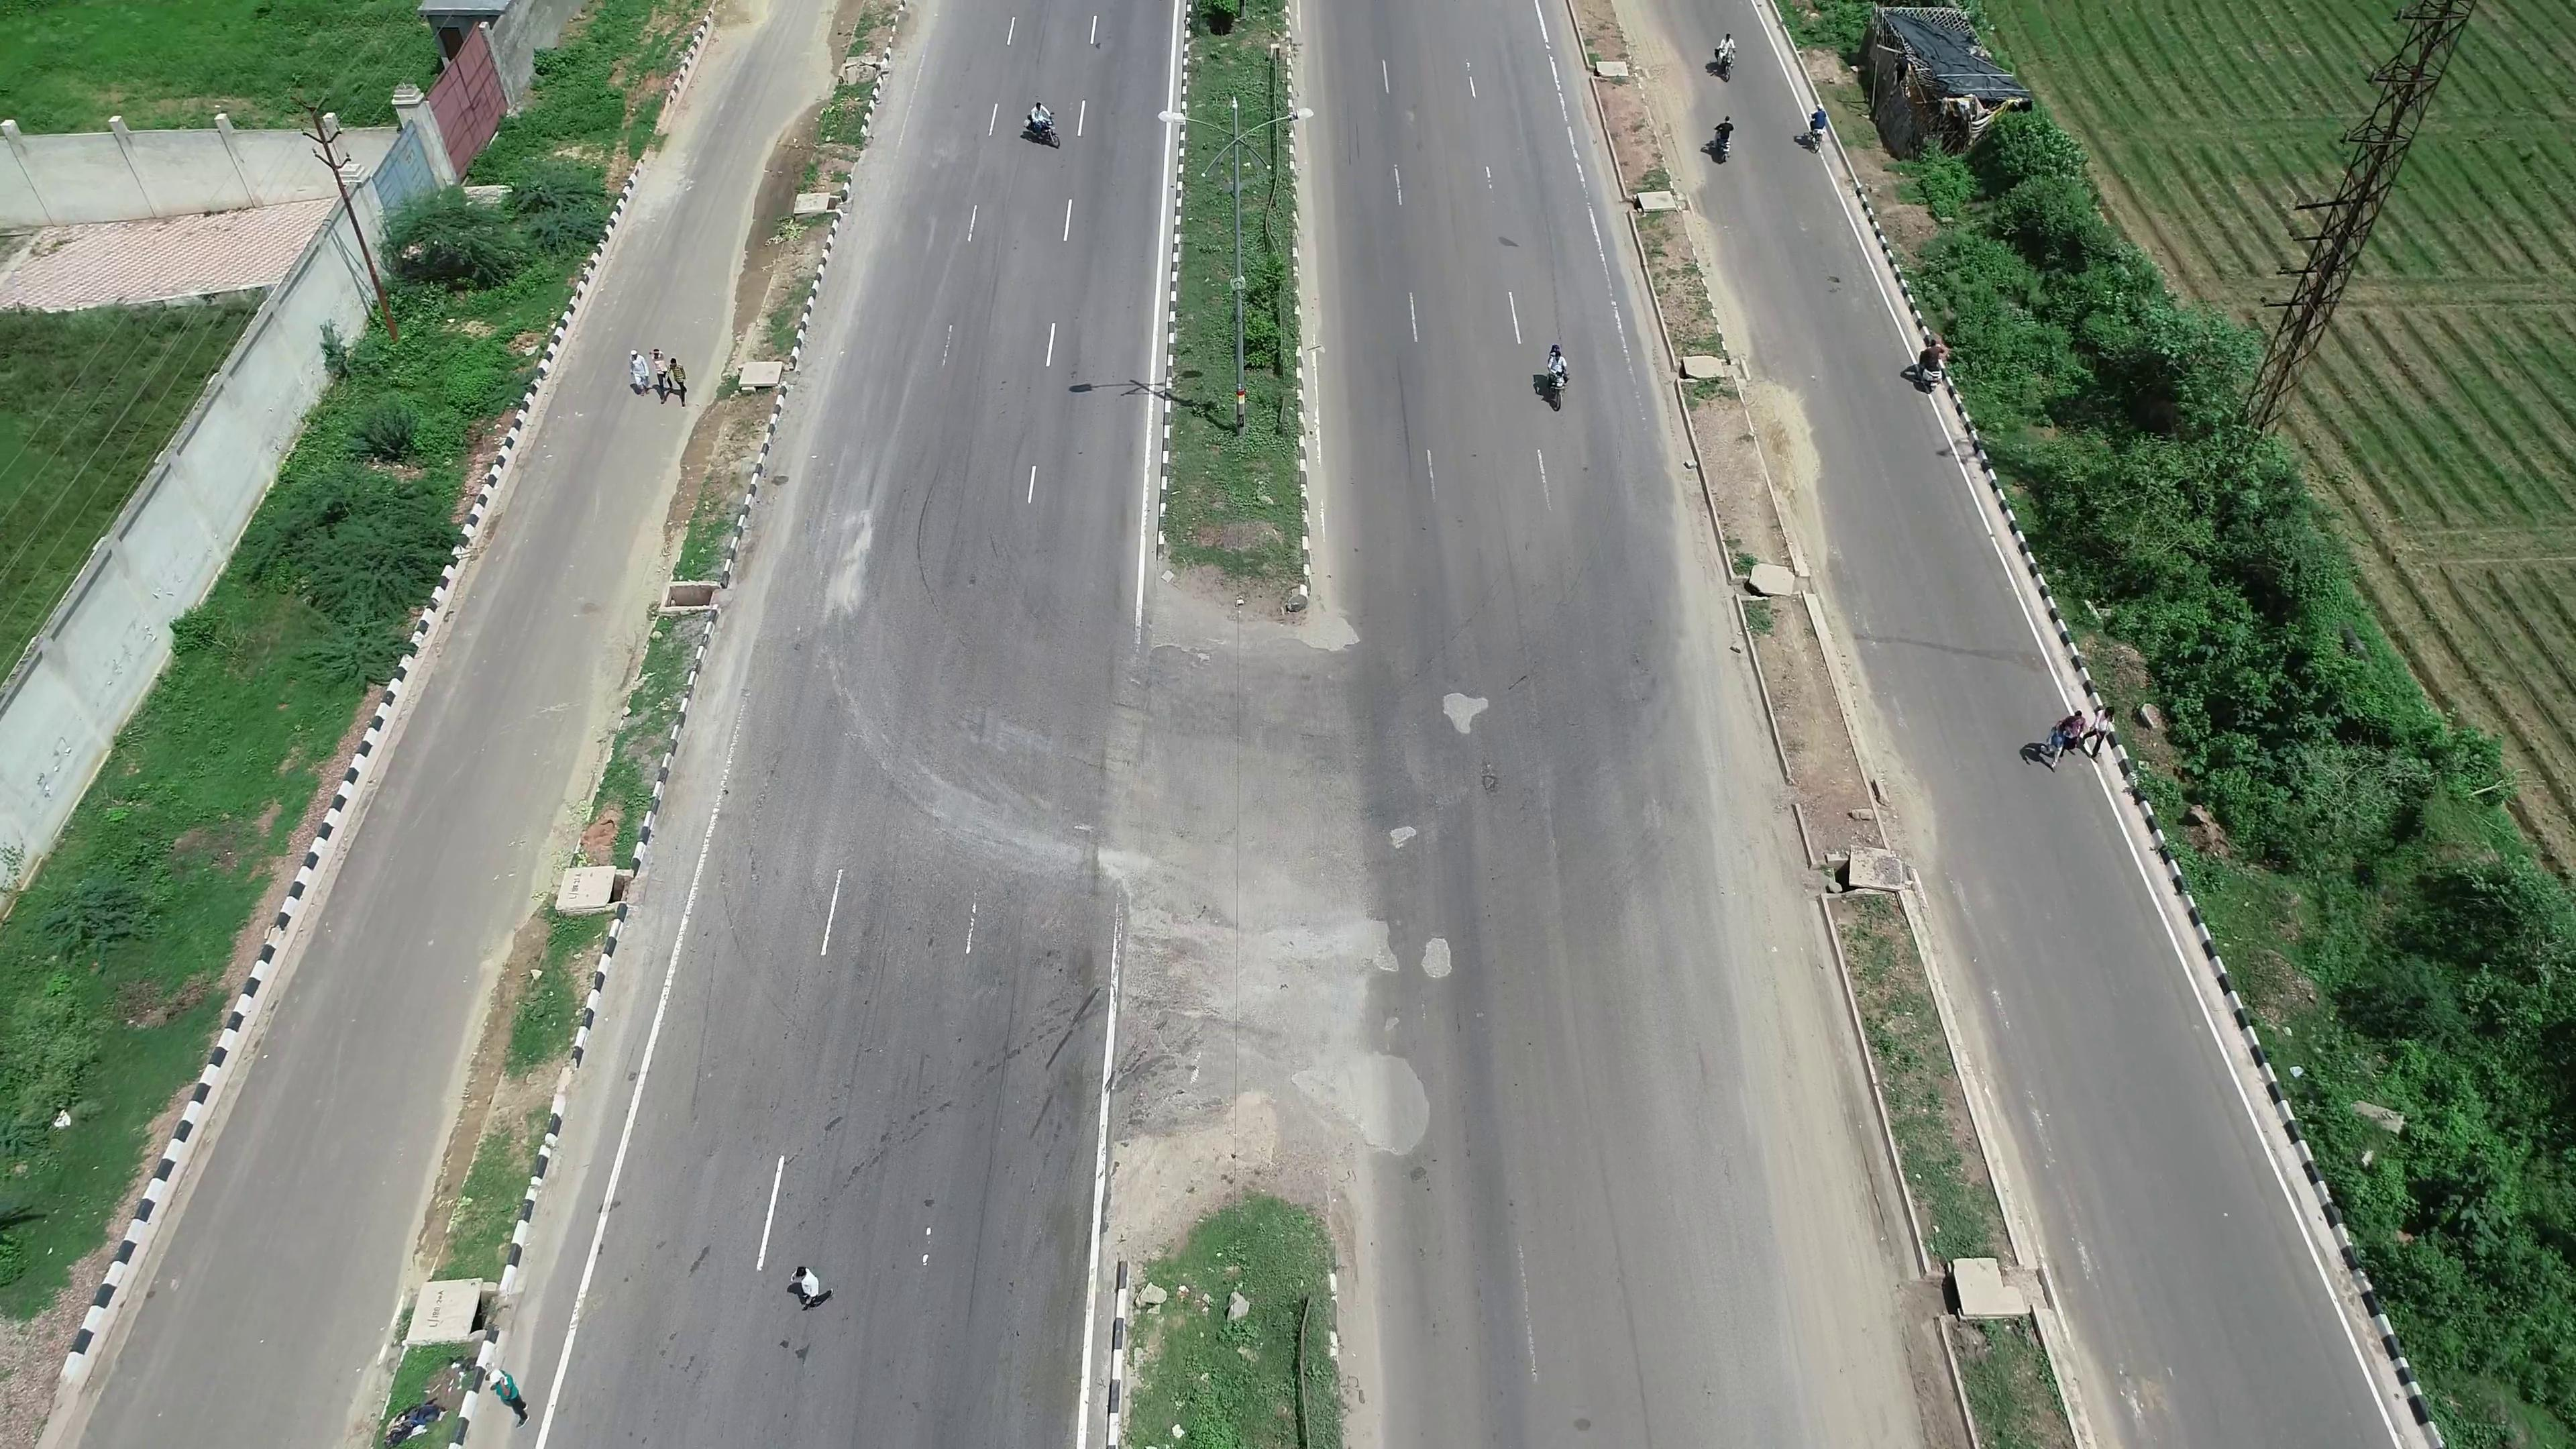Potholes: (1445, 734, 1525, 828)
